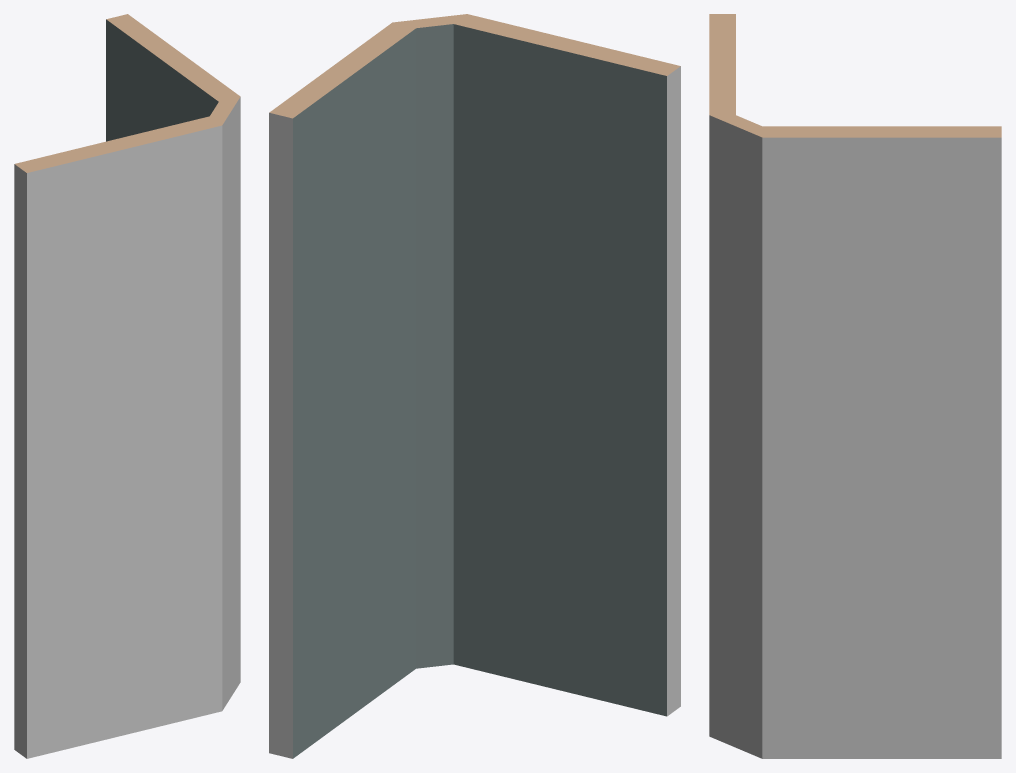
The model's file is wallCorner.glb.
3 views of the same model, side by side, from view 1: azimuth 30°, elevation 25°; view 2: azimuth 150°, elevation 25°; view 3: azimuth 270°, elevation 25° (orthographic). The views are drawn at different scales.
Visible parts, largest first — view 1: wallCorner; view 2: wallCorner; view 3: wallCorner.
Part boxes in pixels (bbox=[...]): wallCorner: bbox=[14, 14, 240, 758]; wallCorner: bbox=[269, 14, 680, 758]; wallCorner: bbox=[709, 14, 1001, 758].
Bounding box in the file's own units: 0.55 × 1.29 × 0.55.
